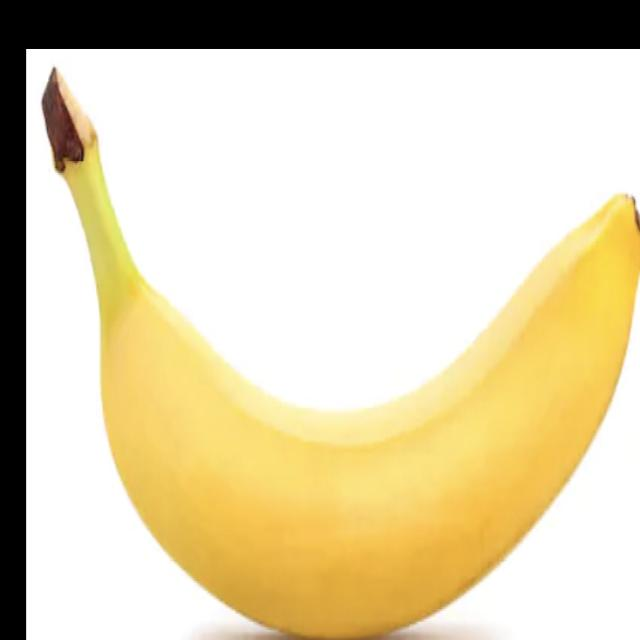Ripe: (32, 50, 639, 640)
